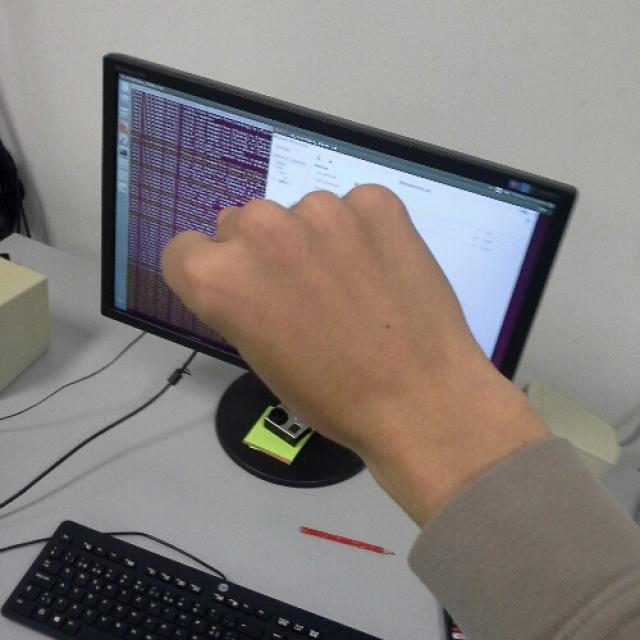rock: (162, 182, 468, 442)
